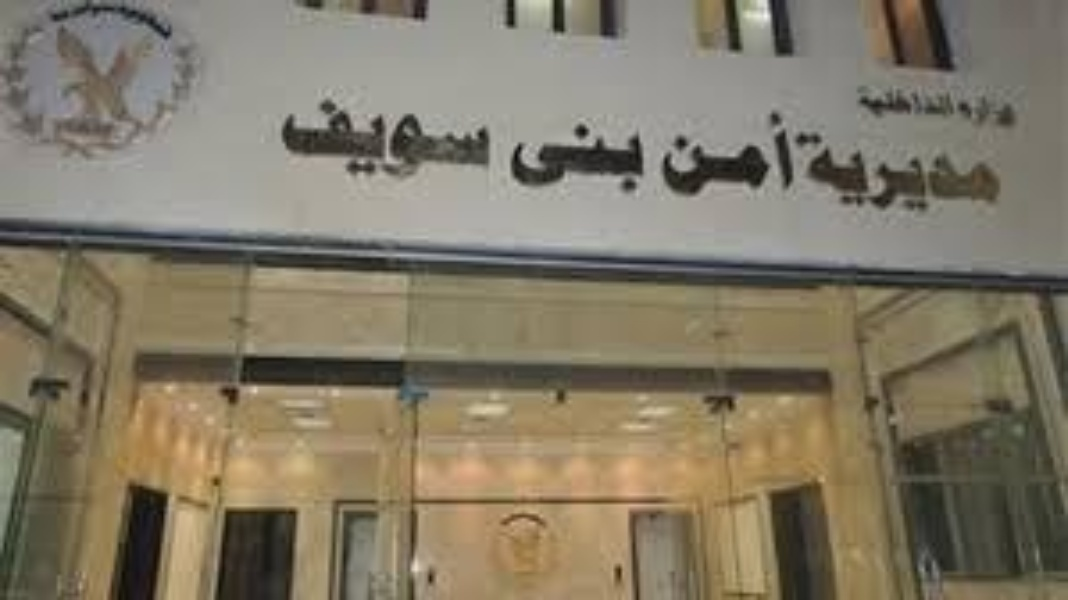text: (481, 90, 497, 190), (673, 104, 688, 204), (689, 104, 704, 204), (705, 104, 720, 204), (721, 104, 736, 204), (737, 104, 752, 204), (753, 104, 768, 204), (769, 104, 784, 204), (289, 90, 304, 190), (305, 90, 320, 190), (321, 90, 336, 190), (337, 90, 352, 190), (353, 90, 368, 190), (369, 90, 384, 190), (385, 90, 400, 190), (401, 90, 416, 190), (417, 90, 432, 190), (433, 90, 448, 190), (449, 90, 464, 190), (465, 90, 480, 190), (801, 126, 816, 222), (817, 126, 832, 222), (833, 126, 848, 222), (849, 126, 864, 222), (865, 126, 880, 222), (881, 126, 896, 222), (897, 126, 912, 222), (913, 126, 928, 222), (929, 126, 944, 222), (945, 126, 960, 222), (961, 126, 976, 222), (977, 126, 992, 222), (993, 126, 1008, 222), (658, 104, 672, 204), (786, 126, 800, 222), (785, 104, 797, 204), (529, 115, 544, 193), (545, 115, 560, 193), (561, 115, 576, 193), (577, 115, 592, 193), (593, 115, 608, 193), (609, 115, 624, 193), (625, 115, 640, 193), (641, 115, 651, 193), (961, 83, 976, 129), (977, 83, 992, 129), (993, 83, 1008, 129), (945, 83, 961, 122), (1009, 83, 1022, 129), (865, 83, 880, 122), (881, 83, 896, 122), (897, 83, 912, 122), (913, 83, 928, 122), (929, 83, 944, 122), (1009, 126, 1015, 222), (283, 90, 288, 190), (522, 115, 528, 193), (854, 83, 864, 122), (954, 83, 960, 129)
